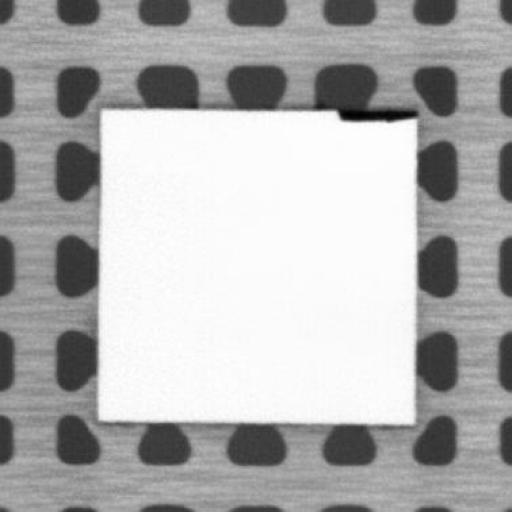DIE_BROKEN: (334, 104, 420, 122)
